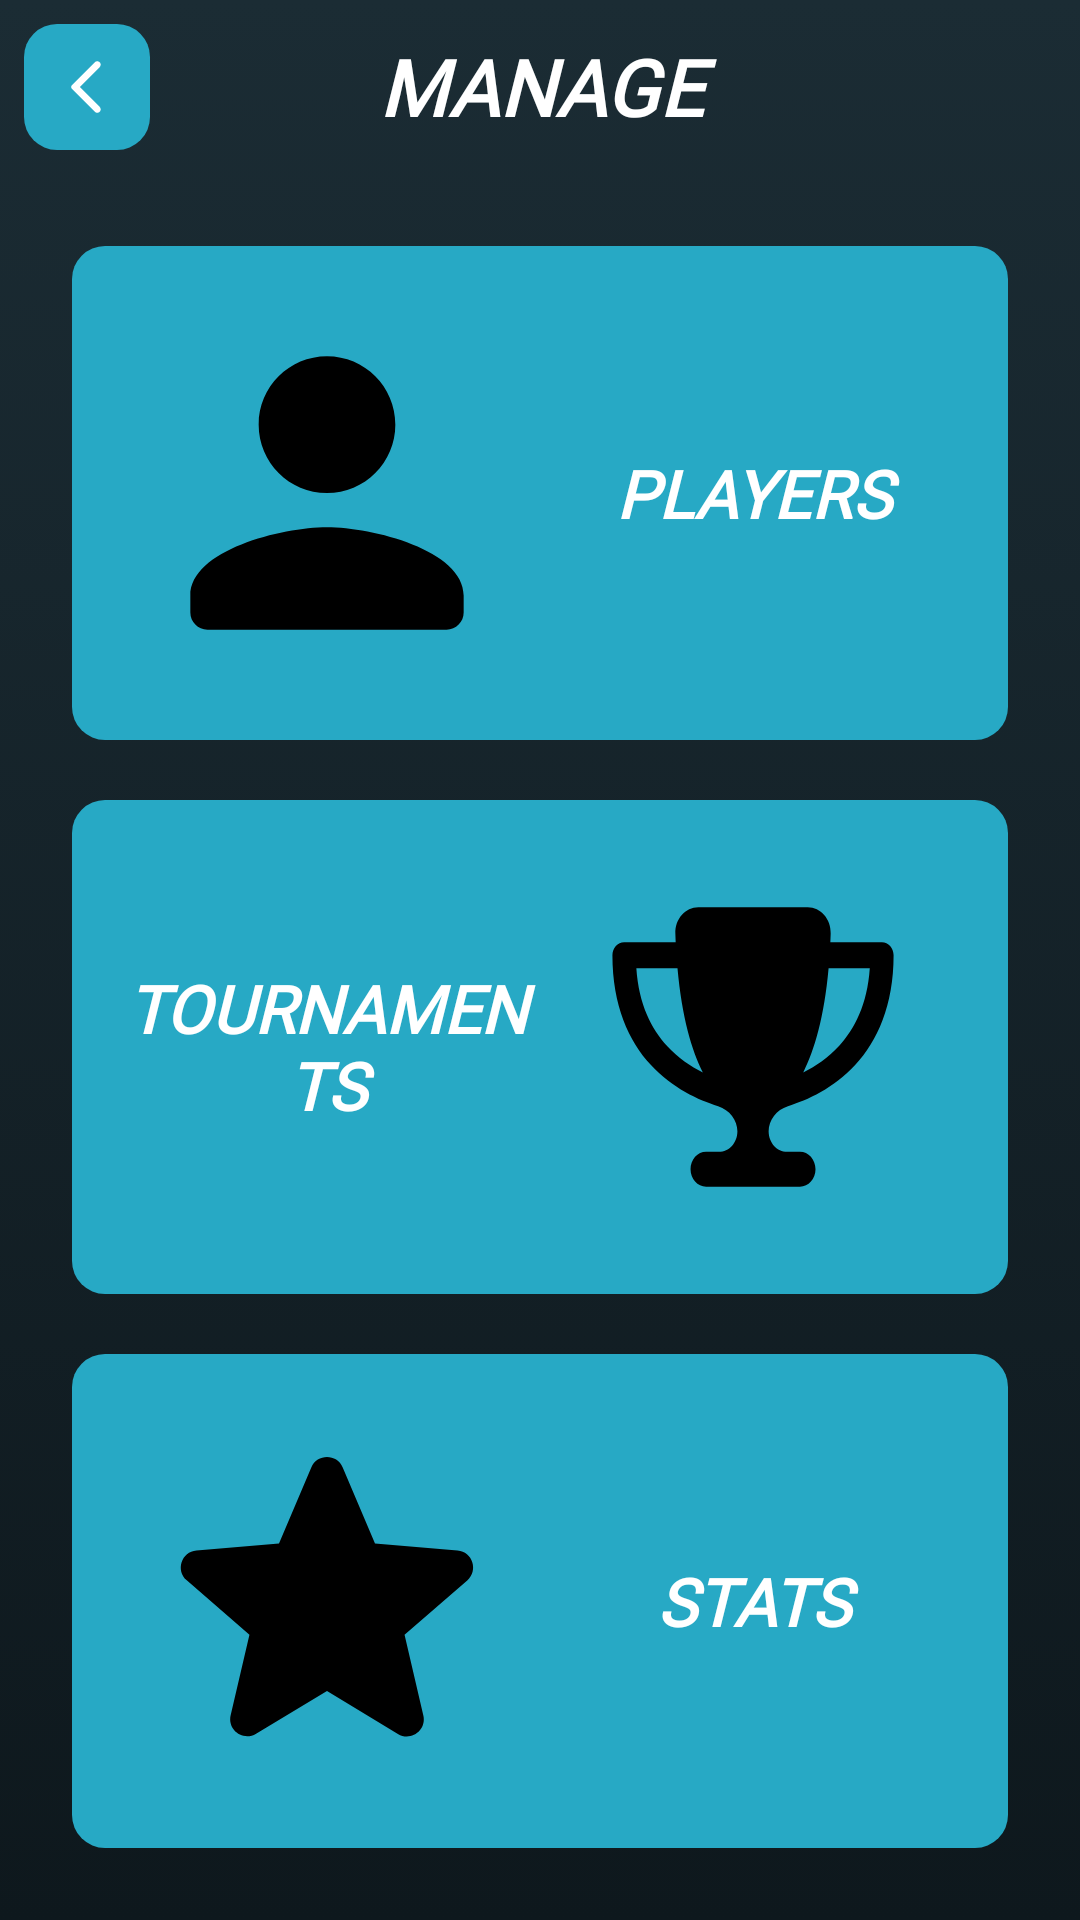

Screen size 1080px x 1920px. Icon name, then its center in pixels as point (x, y):
BACK: point (87, 87)
